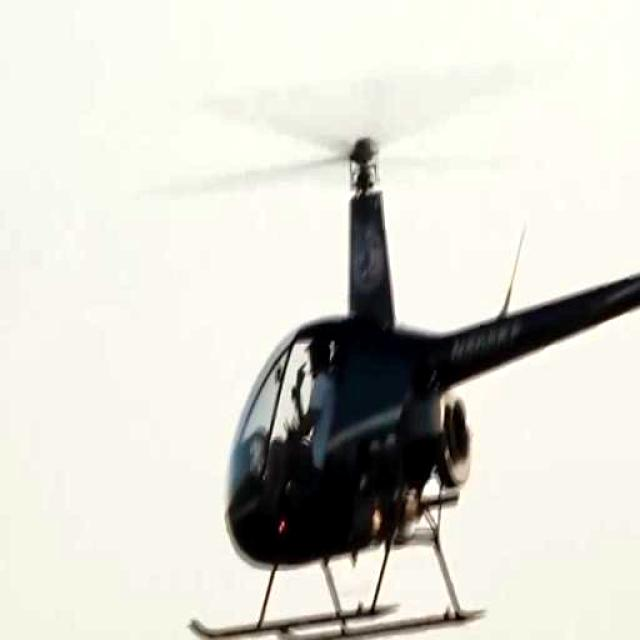drone: (178, 42, 640, 640)
